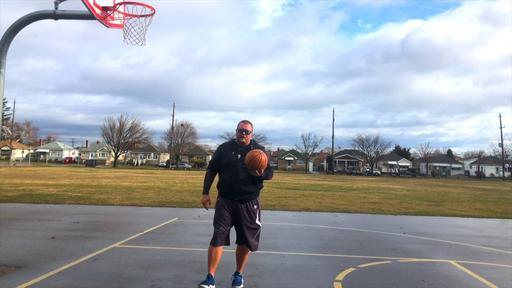ball: (245, 149, 268, 172)
human: (197, 120, 273, 288)
rim: (103, 1, 156, 46)
